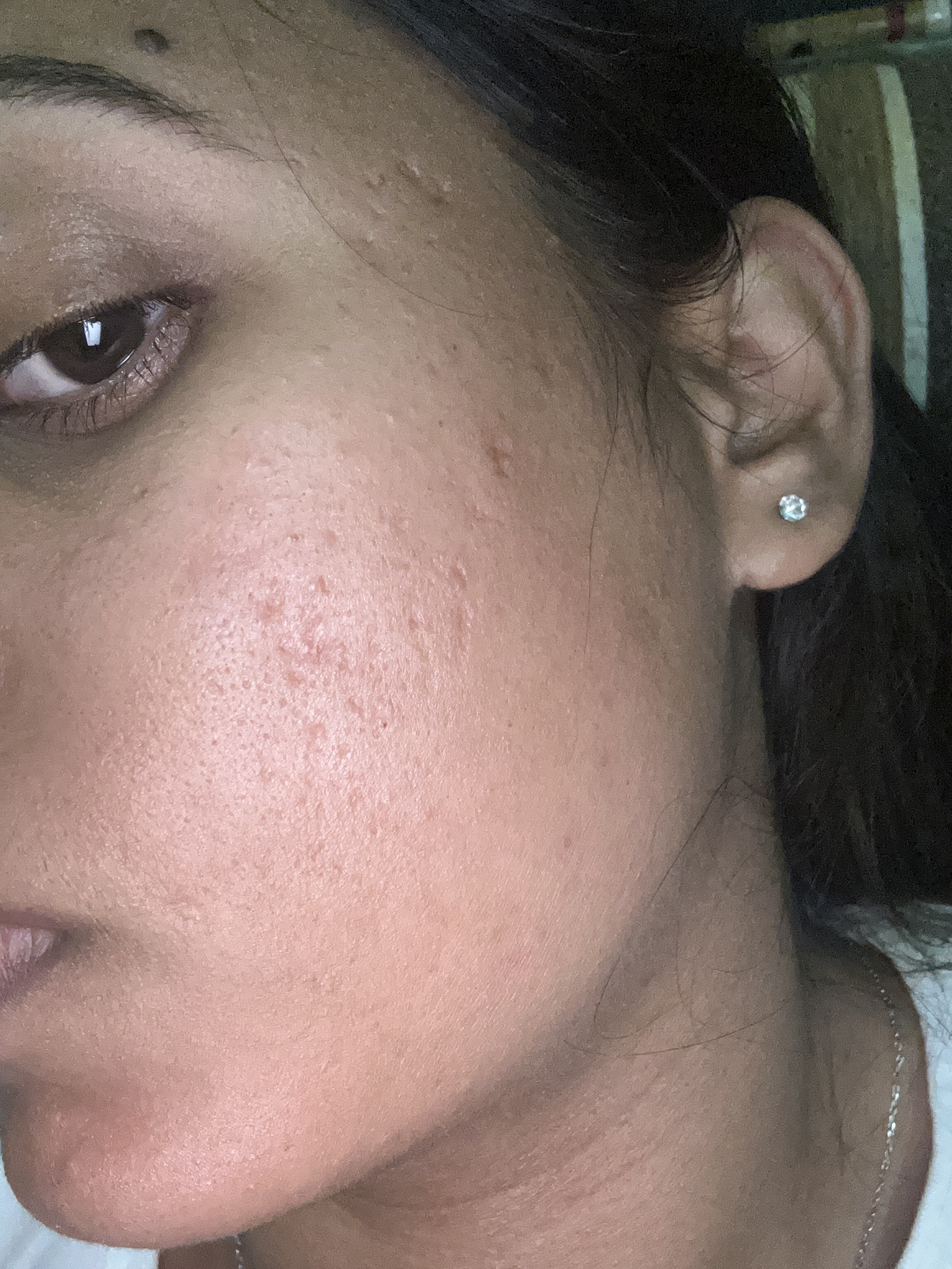closed_comedone: (376, 403, 408, 440)
